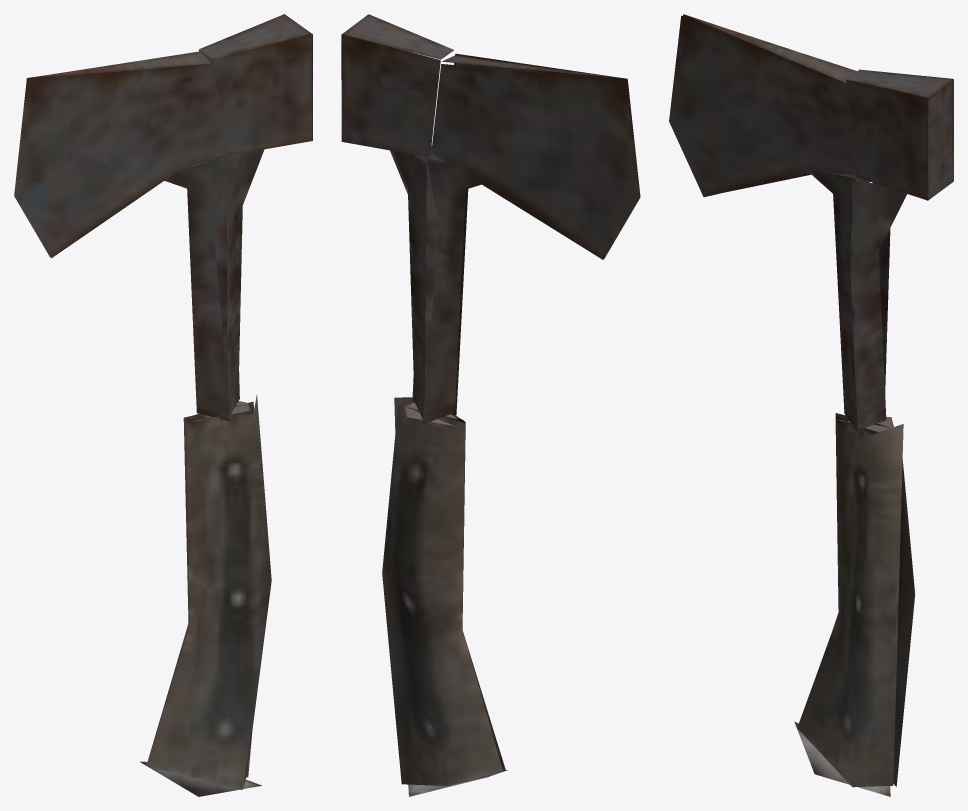
File: hatchet_lod3.glb
The picture shows the model from 3 angles, left to right: view 1: azimuth 30°, elevation 25°; view 2: azimuth 150°, elevation 25°; view 3: azimuth 330°, elevation 25°; orthographic projection. The views are drawn at different scales.
Parts seen in each view (by area): view 1: Hatchet_LOD3_temp; view 2: Hatchet_LOD3_temp; view 3: Hatchet_LOD3_temp.
Part boxes in pixels (x1,y1,x2,y2): Hatchet_LOD3_temp: (14, 14, 312, 796); Hatchet_LOD3_temp: (341, 14, 640, 796); Hatchet_LOD3_temp: (669, 14, 953, 796).
Bounding box in the file's own units: 0.2535 × 0.6446 × 0.0595.
Materials: 1 (1 with a texture image).
